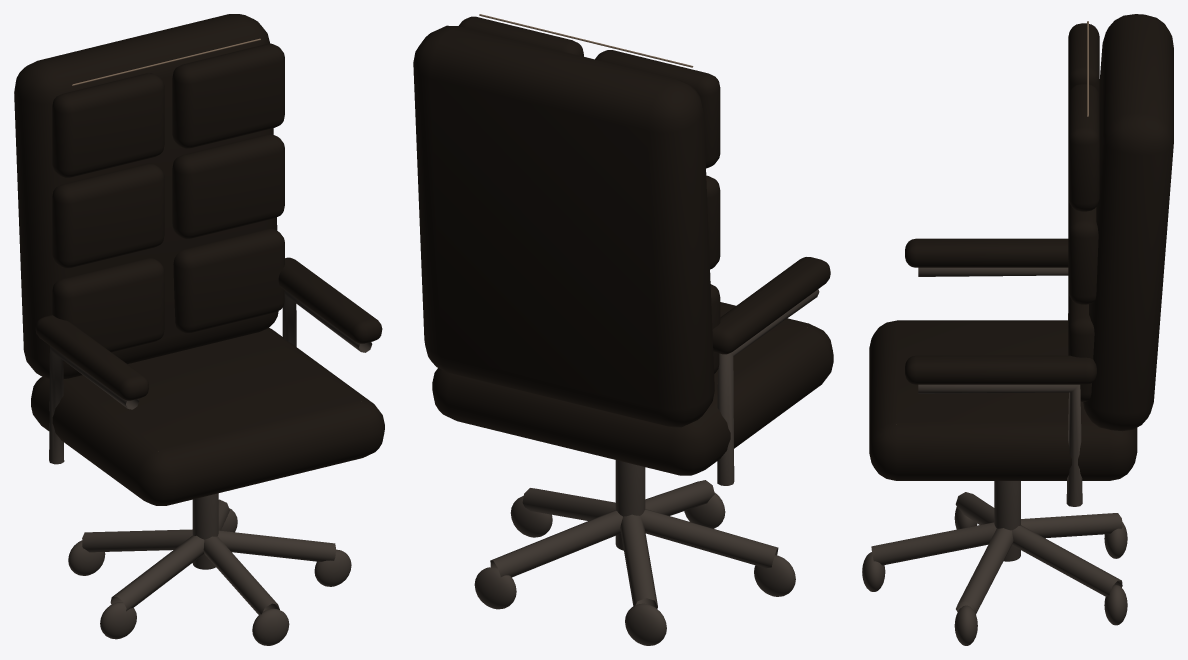
The model's file is chair-v1.glb.
3 views of the same model, side by side, from view 1: azimuth 30°, elevation 25°; view 2: azimuth 150°, elevation 25°; view 3: azimuth 270°, elevation 25° (orthographic). The views are drawn at different scales.
Parts seen in each view (by area): view 1: Lift column; view 2: Lift column; view 3: Lift column.
Boxes of the visible parts, <box> form: Lift column: <box>14,14,384,645</box>; Lift column: <box>413,14,833,645</box>; Lift column: <box>862,14,1173,645</box>.
Bounding box in the file's own units: 0.695 × 1.3 × 0.6982.
3 materials, 1 textured.
